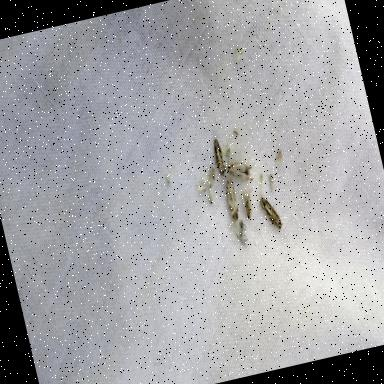pbw: (258, 191, 284, 234), (224, 178, 242, 222), (228, 160, 256, 188), (211, 138, 228, 180), (242, 190, 256, 220)
